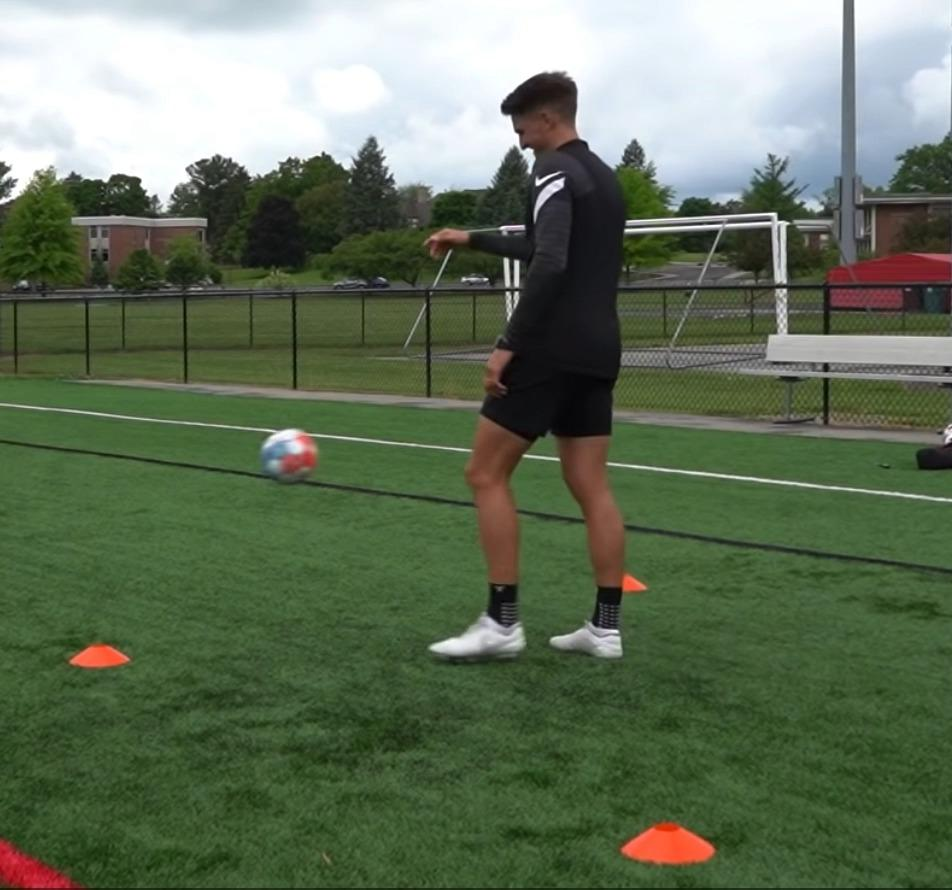ball: (262, 430, 317, 488)
foot: (424, 610, 525, 660), (548, 619, 624, 662)
person: (422, 70, 626, 661)
